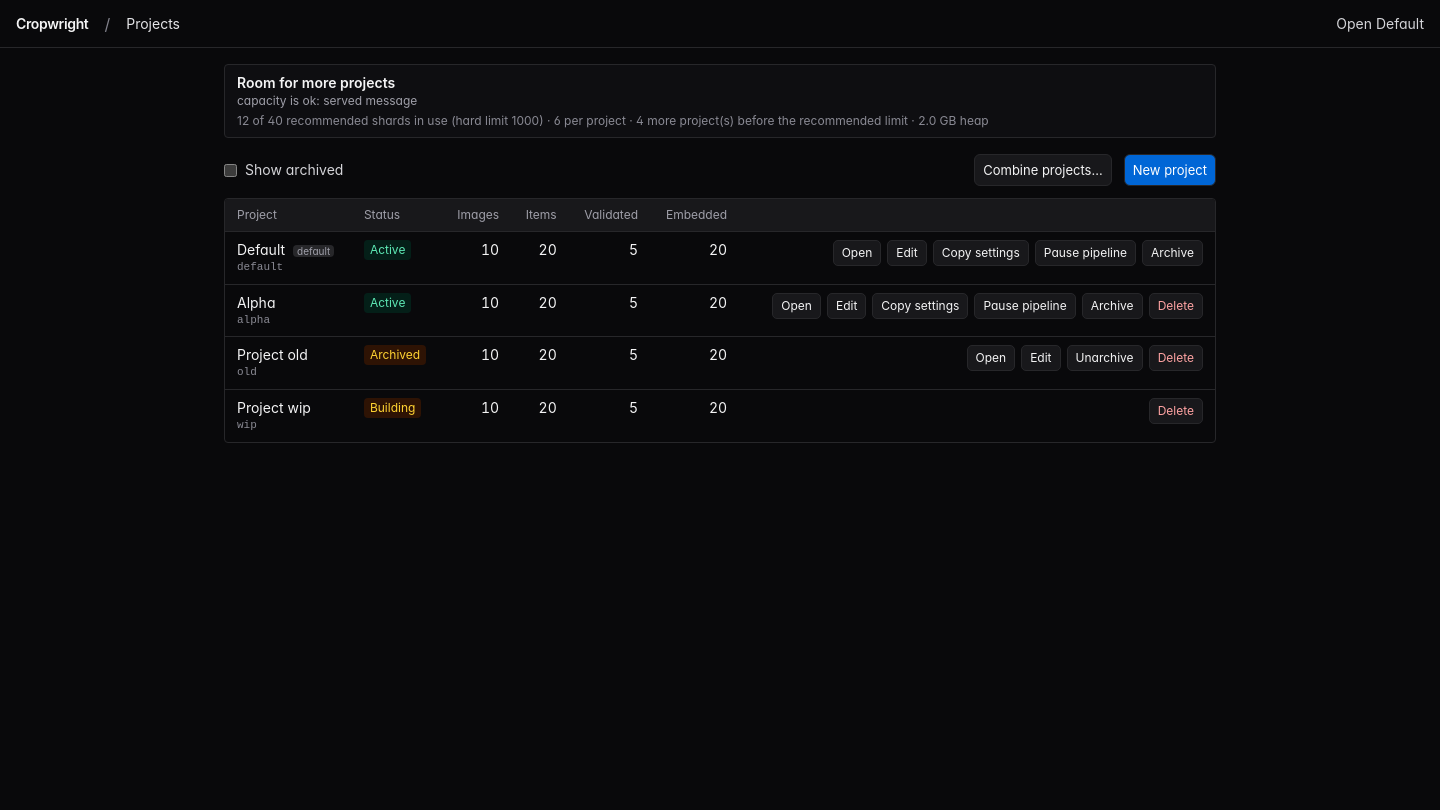
Test case: pipeline pause › a served refusal renders verbatim and the flag is unchanged
The image size is (1440, 810).
Click the 2nd button "Pause pipeline" at [1025, 306], box left=974, top=293, right=1076, bottom=319
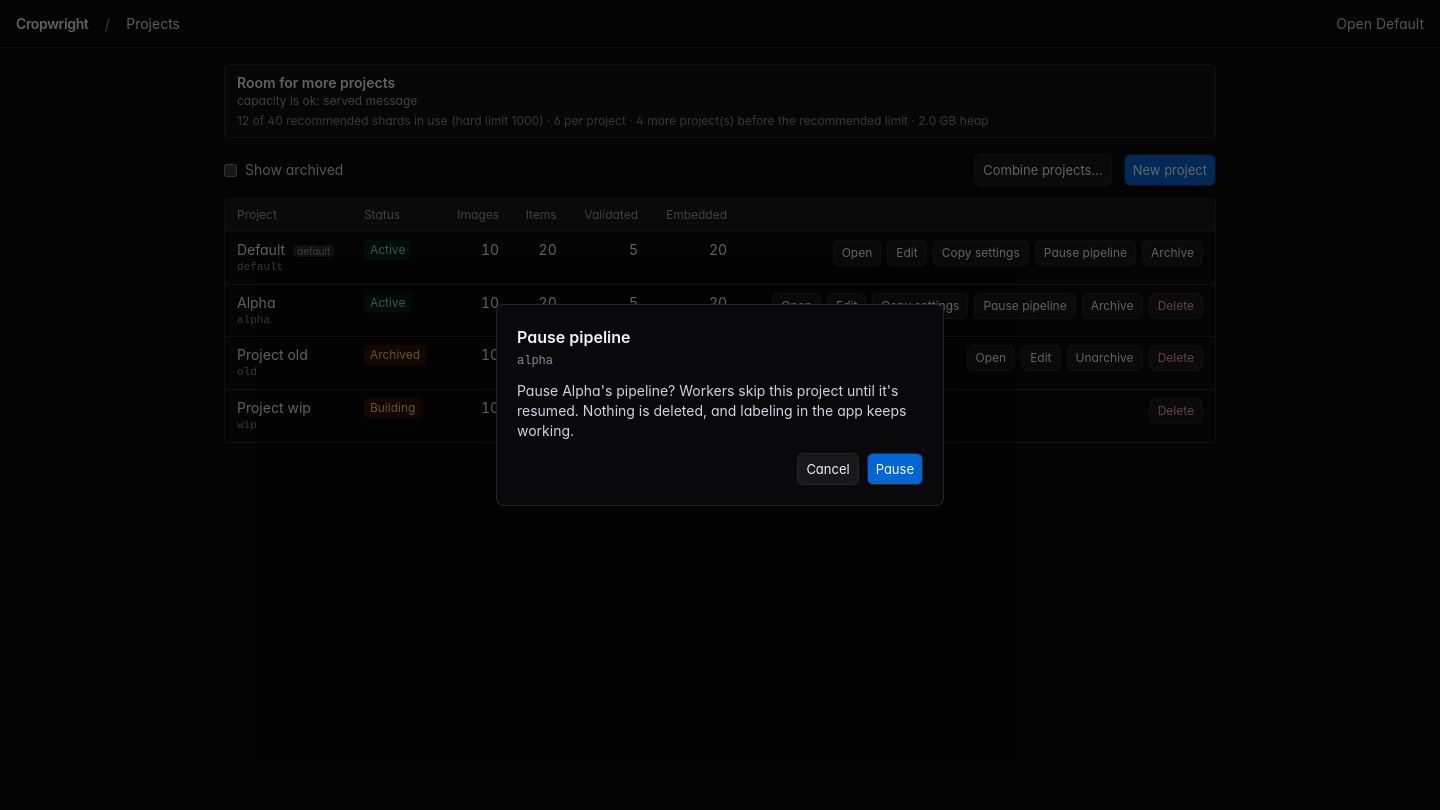
Click the button "Pause" at [895, 469], box left=867, top=453, right=923, bottom=485
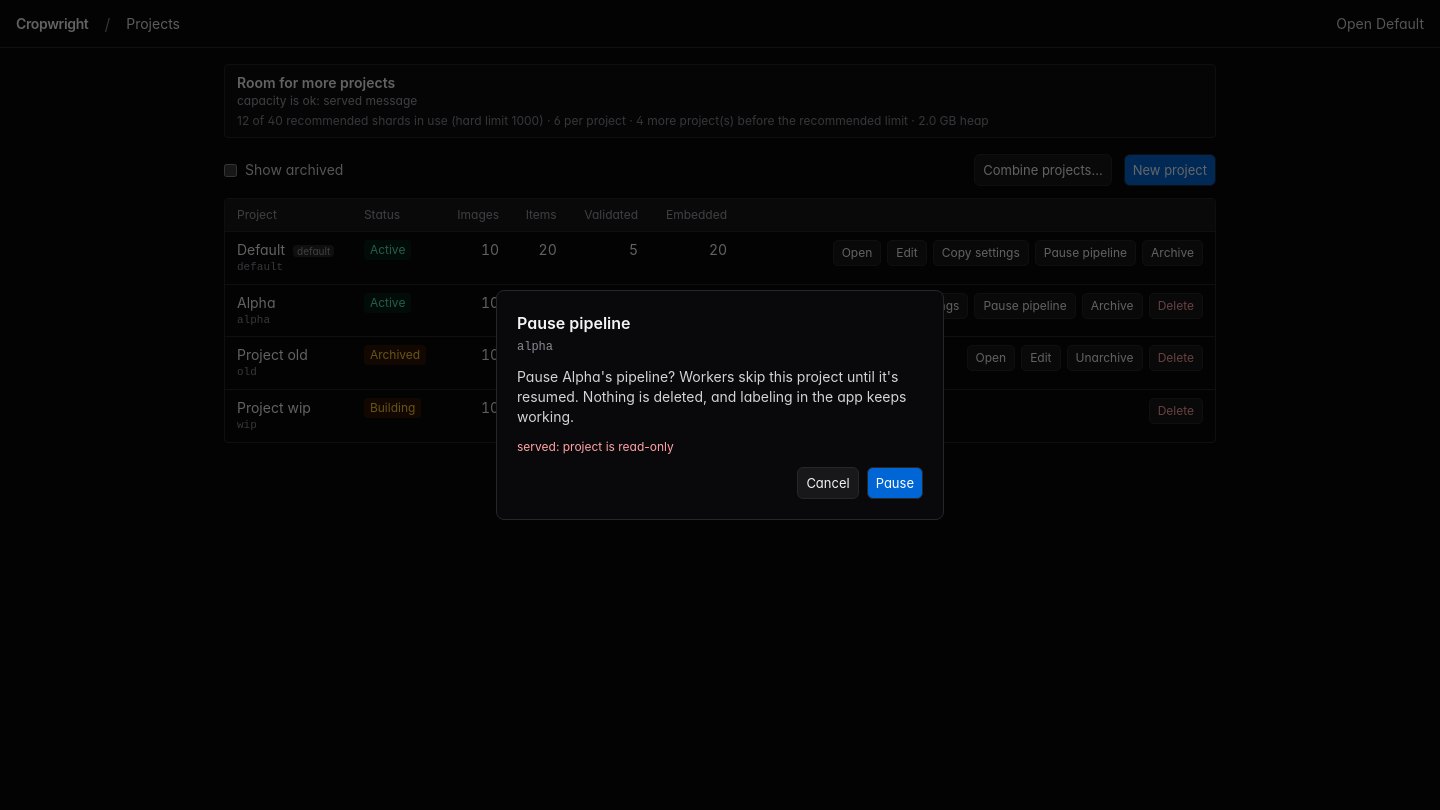
Now the text "served: project is read-only" is shown, box left=517, top=439, right=674, bottom=454
